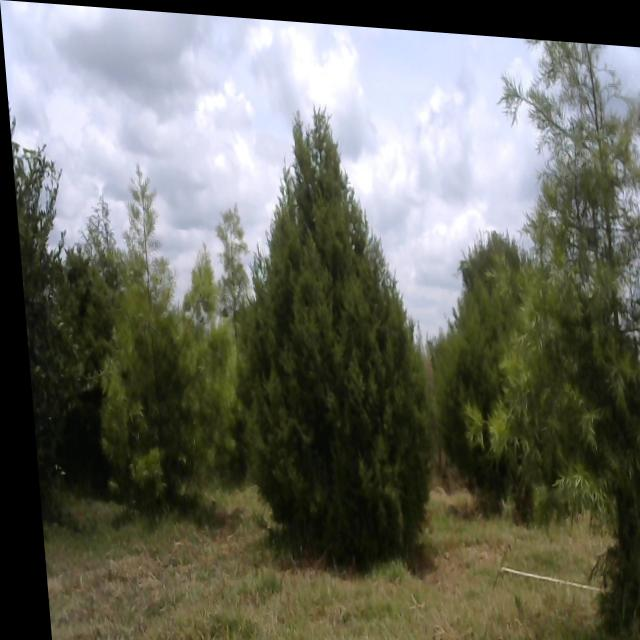Podocarpus falcatus: (436, 25, 640, 618), (75, 158, 228, 502)
Salix alba: (8, 124, 88, 527)
cedrus: (223, 102, 442, 555), (428, 294, 502, 498)
